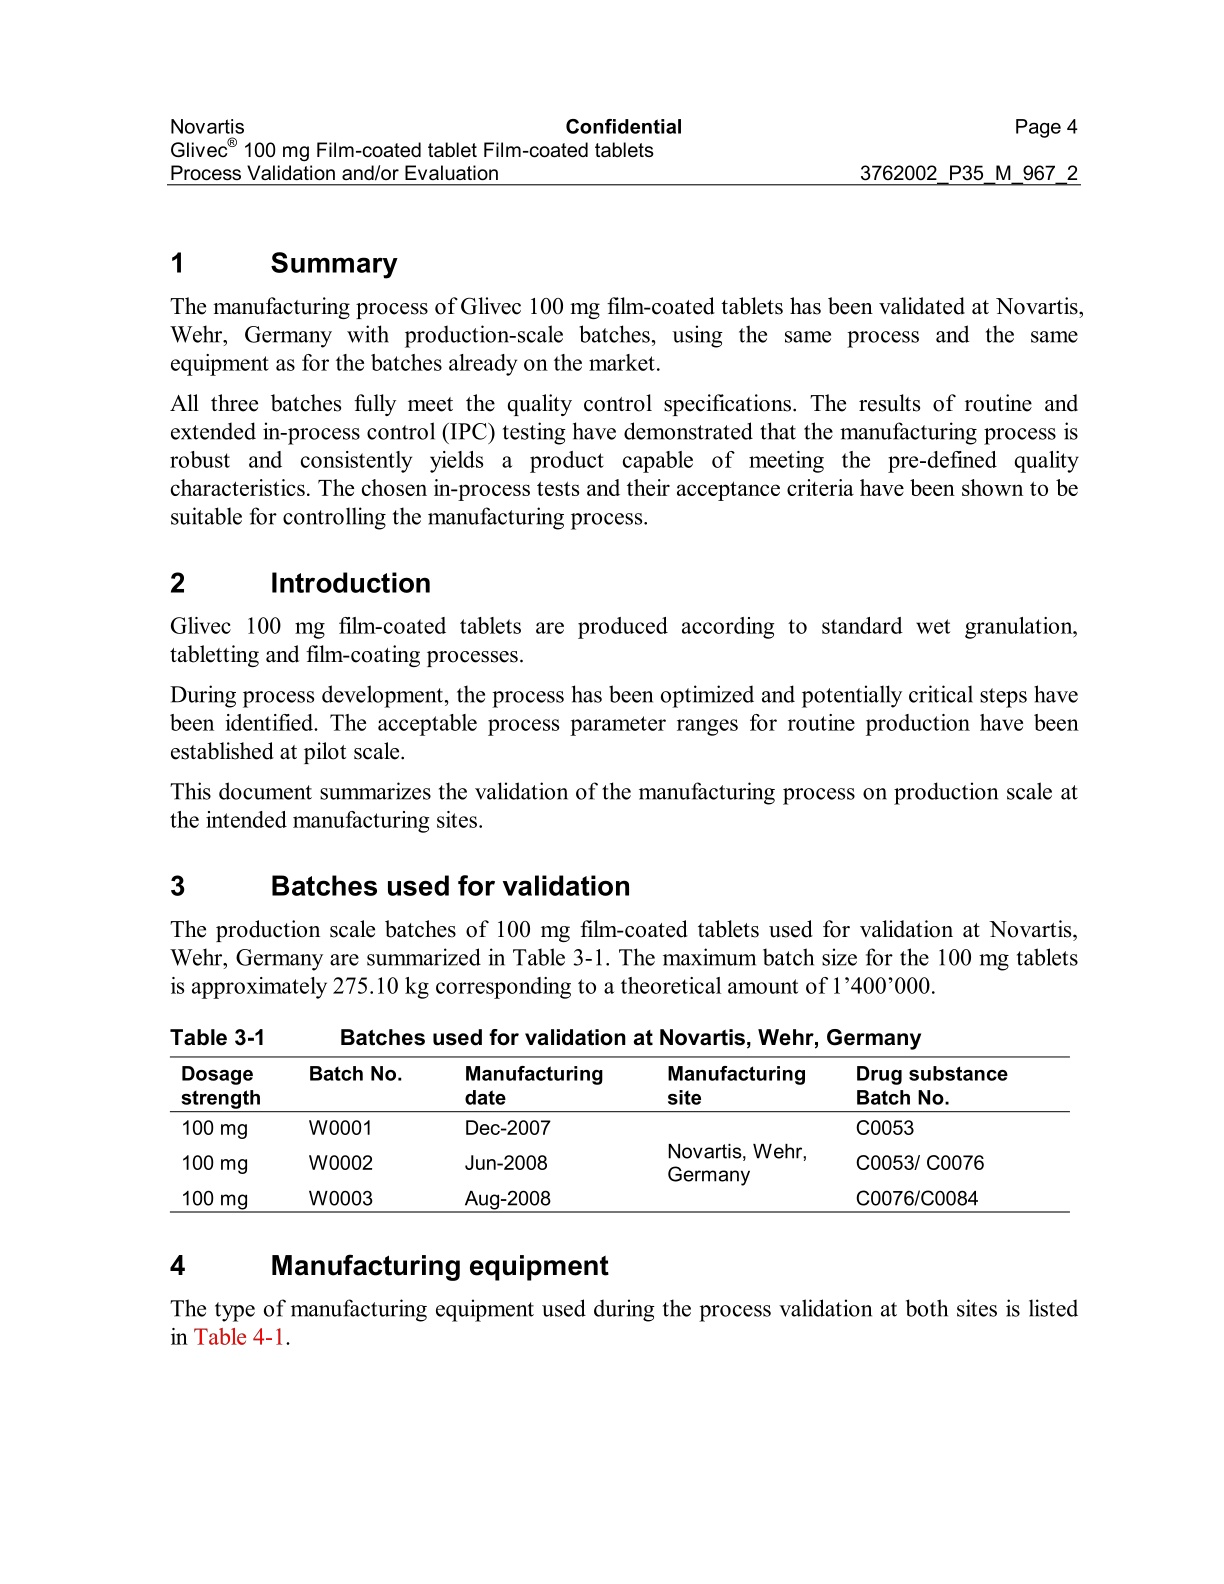partial_lined: (168, 1056, 1068, 1212)
